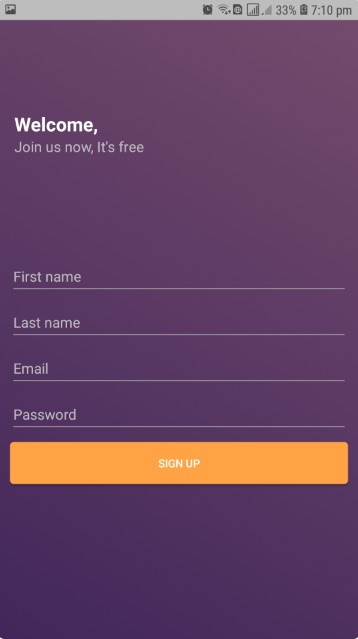EditText: (14, 362, 345, 382), (13, 271, 345, 290), (13, 317, 345, 336), (14, 409, 346, 428)
Text: (15, 141, 145, 155), (14, 118, 98, 137), (14, 271, 82, 283), (14, 317, 81, 329), (14, 409, 77, 421), (14, 362, 50, 375)
TextButton: (10, 441, 349, 485)
UpperTaskBar: (1, 1, 358, 21)
